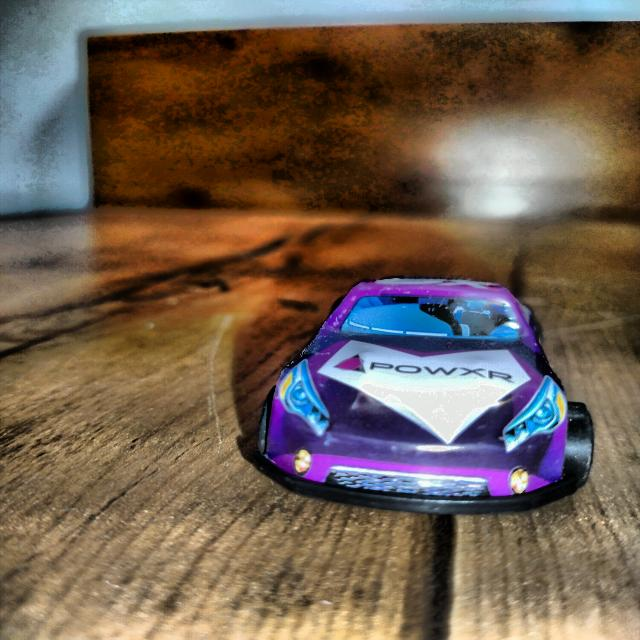Car: (243, 277, 603, 515)
